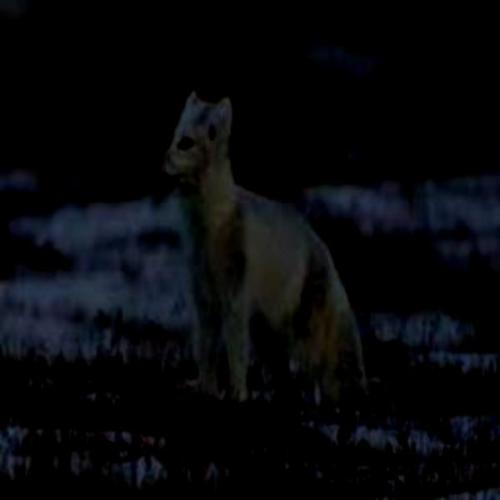arctic_fox-endangered: (159, 88, 367, 400)
